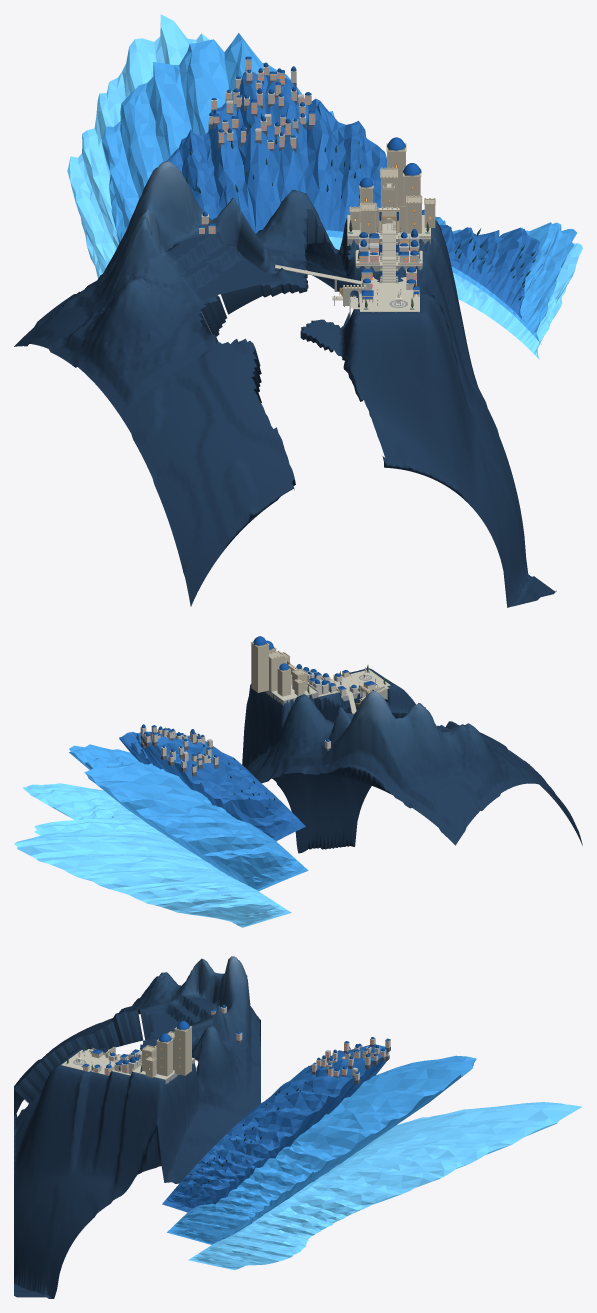
The model's file is citadel-cliff-input-v5.glb.
3 views of the same model, one above another, from view 1: azimuth 30°, elevation 25°; view 2: azimuth 150°, elevation 25°; view 3: azimuth 270°, elevation 25° (orthographic). The views are drawn at different scales.
Visible parts, largest first — view 1: citadel-oskar-grid-mountain-surface, citadel-backdrop-ridge-near, citadel-backdrop-ridge-mid, citadel-backdrop-ridge-far, target-castle-exterior (×2), citadel-coastal-cliff-seal, citadel-target-hillside-houses-claude-exterior-0, west-city-plaza-deck, citadel-target-hillside-houses-claude-exterior-5; view 2: citadel-oskar-grid-mountain-surface, citadel-backdrop-ridge-far, citadel-backdrop-ridge-mid, citadel-backdrop-ridge-near, target-castle-exterior, citadel-target-hillside-houses-claude-exterior-0, west-city-plaza-deck, citadel-coastal-cliff-seal, citadel-target-hillside-houses-claude-exterior-5; view 3: citadel-oskar-grid-mountain-surface, citadel-backdrop-ridge-far, citadel-backdrop-ridge-mid, citadel-backdrop-ridge-near, citadel-coastal-cliff-seal, target-castle-exterior, citadel-target-hillside-houses-claude-exterior-0, west-city-plaza-deck.
Part boxes in pixels (left/top/right/bottom): citadel-oskar-grid-mountain-surface: left=14, top=161, right=556, bottom=607; citadel-backdrop-ridge-near: left=167, top=71, right=539, bottom=321; citadel-backdrop-ridge-mid: left=101, top=33, right=576, bottom=344; citadel-backdrop-ridge-far: left=67, top=14, right=582, bottom=359; target-castle-exterior (×2): left=349, top=143, right=435, bottom=234; citadel-coastal-cliff-seal: left=199, top=209, right=363, bottom=490; citadel-target-hillside-houses-claude-exterior-0: left=199, top=60, right=315, bottom=233; west-city-plaza-deck: left=360, top=292, right=419, bottom=311; citadel-target-hillside-houses-claude-exterior-5: left=198, top=56, right=315, bottom=227; citadel-oskar-grid-mountain-surface: left=242, top=668, right=582, bottom=853; citadel-backdrop-ridge-far: left=14, top=783, right=291, bottom=927; citadel-backdrop-ridge-mid: left=69, top=744, right=308, bottom=891; citadel-backdrop-ridge-near: left=119, top=731, right=305, bottom=841; target-castle-exterior: left=251, top=642, right=307, bottom=696; citadel-target-hillside-houses-claude-exterior-0: left=140, top=728, right=330, bottom=772; west-city-plaza-deck: left=342, top=669, right=390, bottom=688; citadel-coastal-cliff-seal: left=290, top=690, right=455, bottom=729; citadel-target-hillside-houses-claude-exterior-5: left=141, top=724, right=329, bottom=766; citadel-oskar-grid-mountain-surface: left=14, top=956, right=260, bottom=1298; citadel-backdrop-ridge-far: left=188, top=1102, right=582, bottom=1270; citadel-backdrop-ridge-mid: left=167, top=1055, right=476, bottom=1244; citadel-backdrop-ridge-near: left=162, top=1044, right=387, bottom=1212; citadel-coastal-cliff-seal: left=14, top=1009, right=202, bottom=1103; target-castle-exterior: left=142, top=1026, right=191, bottom=1077; citadel-target-hillside-houses-claude-exterior-0: left=221, top=1007, right=390, bottom=1080; west-city-plaza-deck: left=61, top=1050, right=107, bottom=1071.
Bounding box in the file's own units: 349 × 217 × 424.
Materials: 76 (1 with a texture image).
